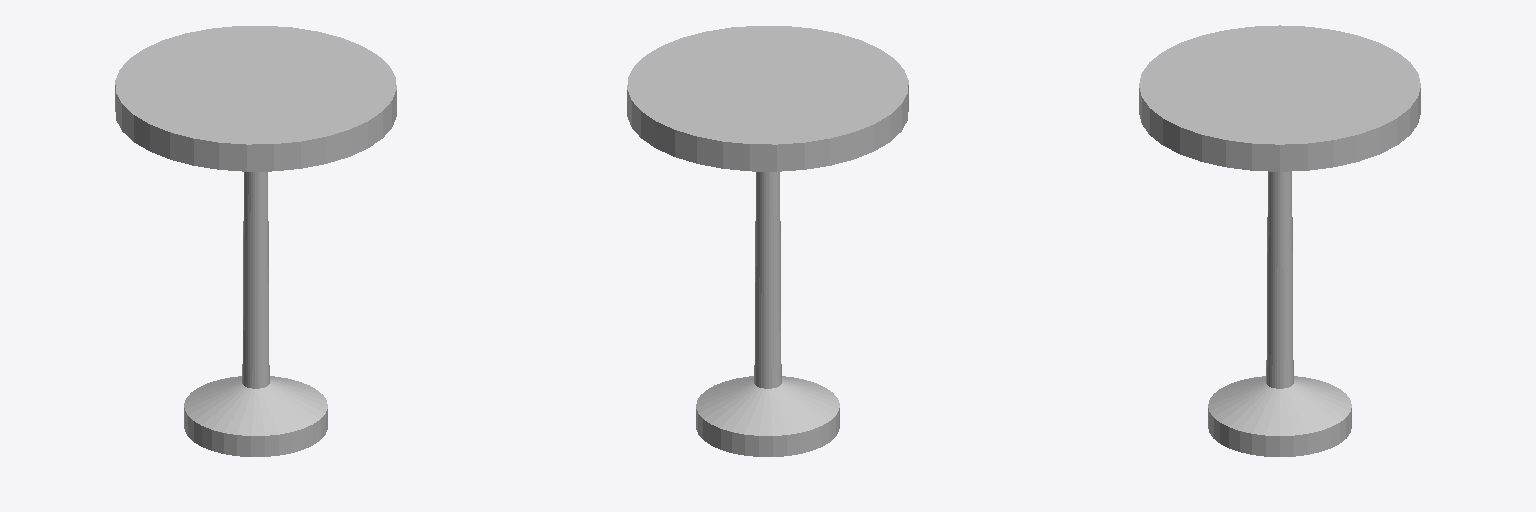
Rendered from stool.obj.
3 views of the same model, side by side, from view 1: azimuth 30°, elevation 25°; view 2: azimuth 150°, elevation 25°; view 3: azimuth 270°, elevation 25° (orthographic).
Visible parts, largest first — view 1: Cylinder.002; view 2: Cylinder.002; view 3: Cylinder.002.
Part boxes in pixels (x1,y1,x2,y2): Cylinder.002: (115, 26, 396, 456); Cylinder.002: (627, 26, 908, 456); Cylinder.002: (1139, 25, 1420, 456).
Bounding box in the file's own units: 2.94 × 3.93 × 2.94.